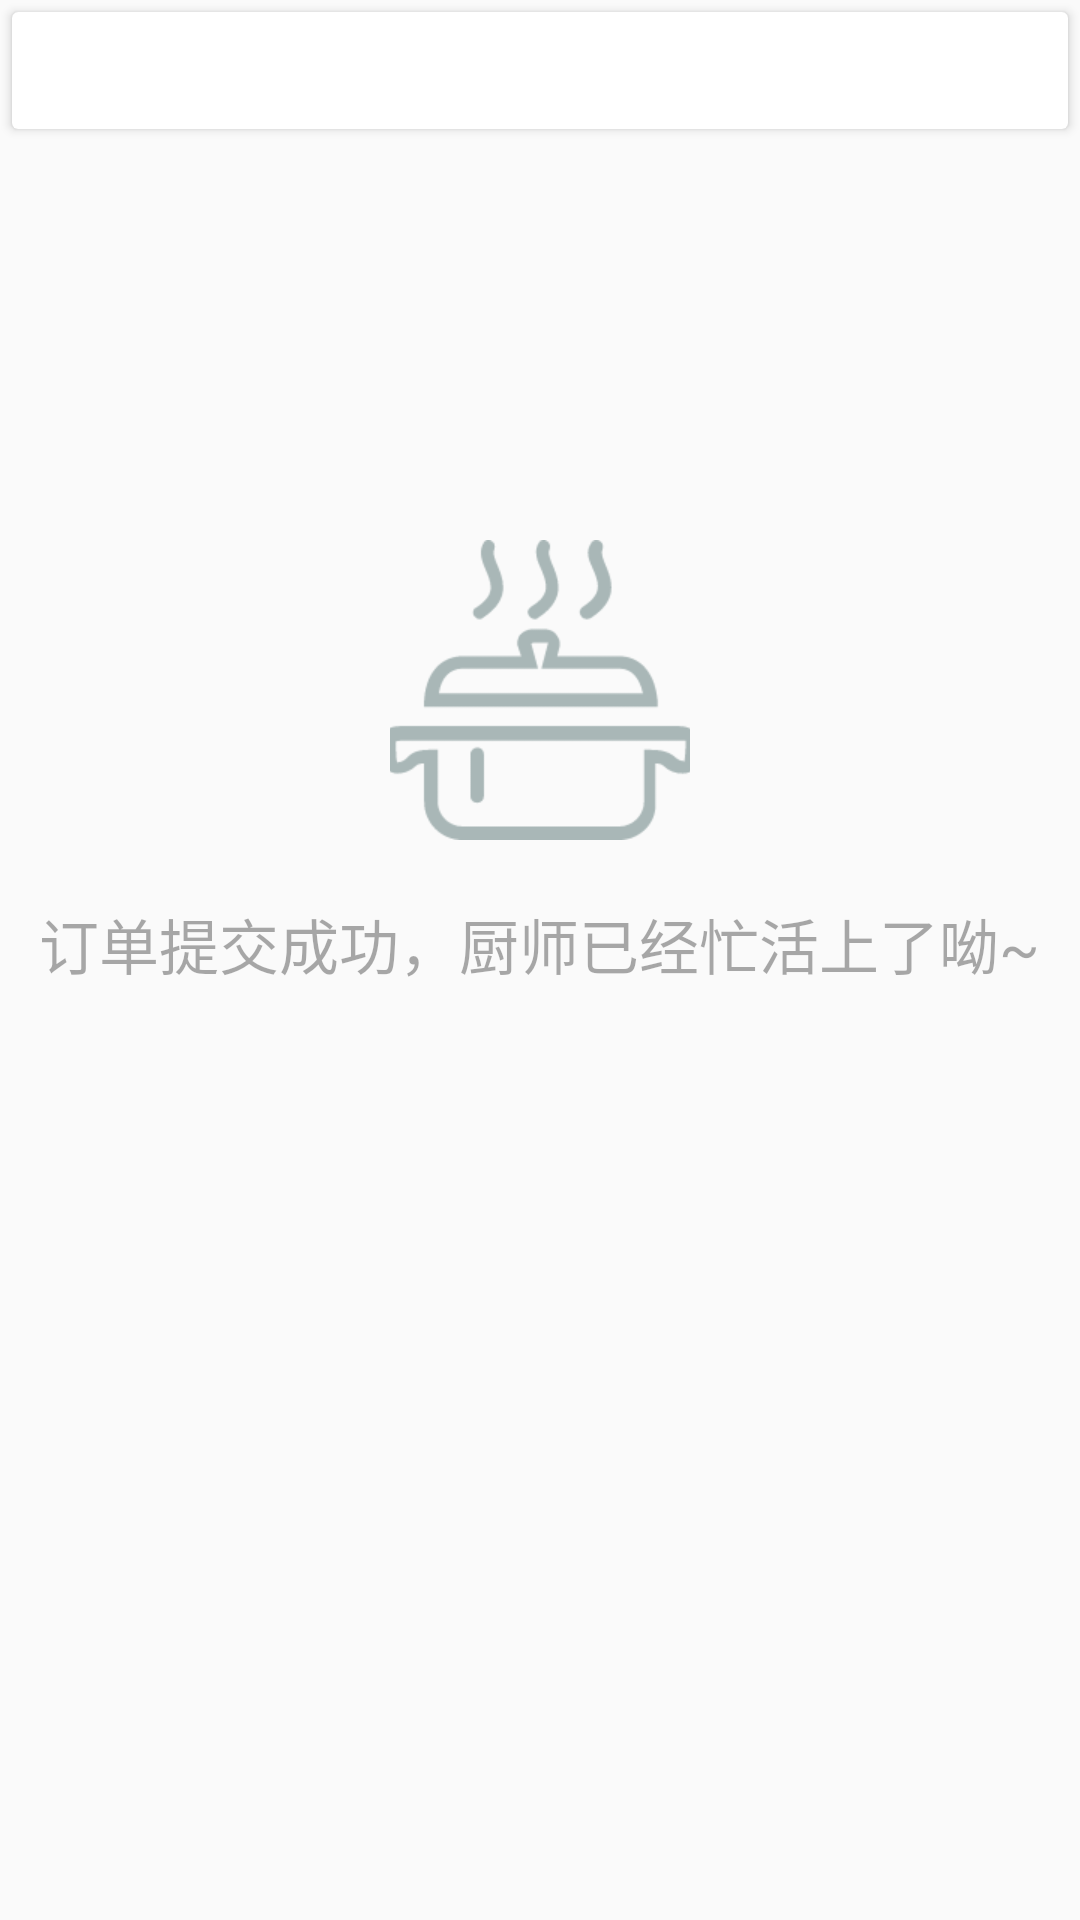

Icons on this 1080×1920 Android screen, each with its box as [x1,y1,x2,y2]:
cooking: [390,540,690,840]
